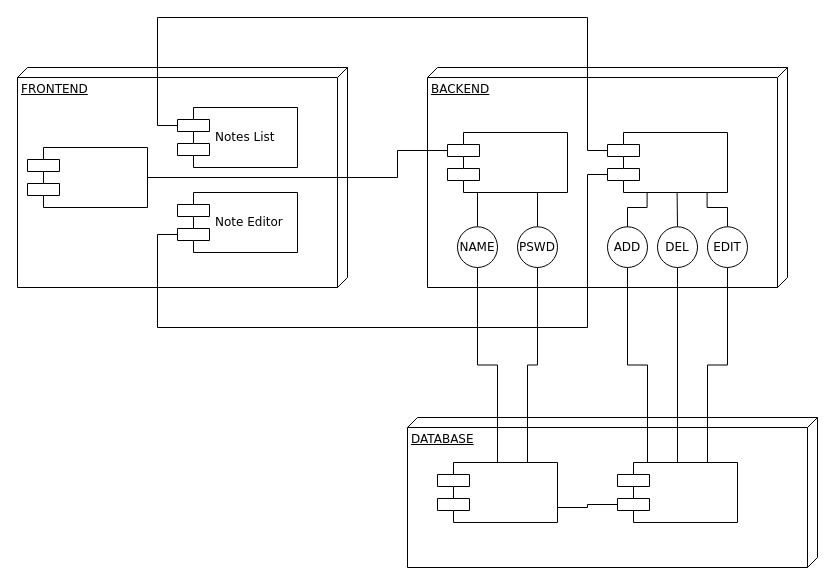
This 835x585 diagram has some shape labels left out. Here are the shapes that lost their labels. From the top down, the centre of each, then its label:
point (87, 177): Login Form
point (507, 162): Authentication
point (667, 162): Notes API
point (497, 492): Users
point (677, 492): Notes
